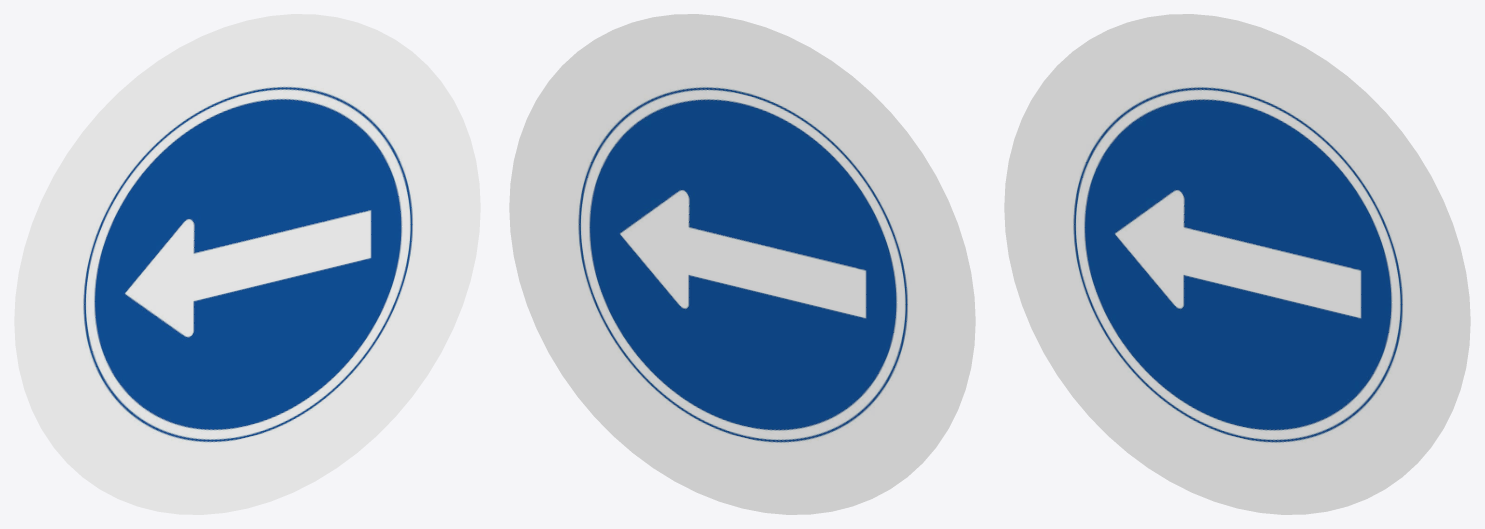
The model's file is left_arrow.glb.
3 renders of one model, left to right at view 1: azimuth 30°, elevation 25°; view 2: azimuth 150°, elevation 25°; view 3: azimuth 330°, elevation 25°, orthographic.
Size of the model in its own units: 1 by 1 by 0.
Materials: 2 (2 with a texture image).
